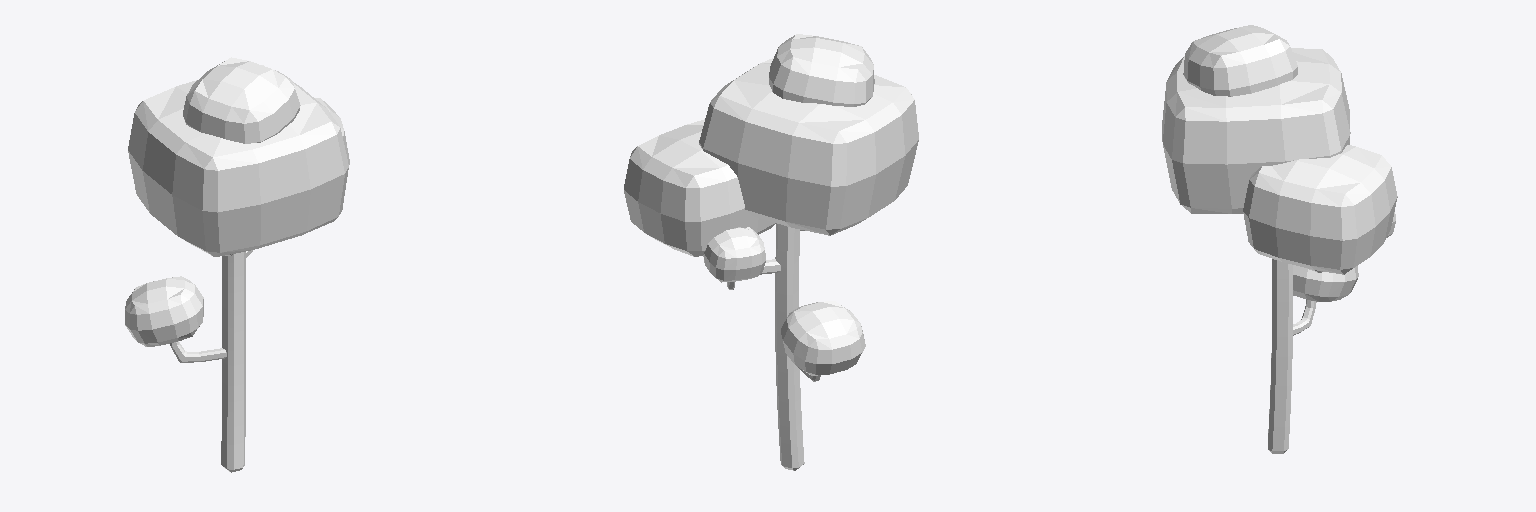
3 renders of one model, left to right at view 1: azimuth 30°, elevation 25°; view 2: azimuth 150°, elevation 25°; view 3: azimuth 270°, elevation 25°, orthographic.
Parts seen in each view (by area): view 1: birch_tree_SC_free; view 2: birch_tree_SC_free; view 3: birch_tree_SC_free.
Part boxes in pixels (left/top/right/bottom): birch_tree_SC_free: left=125, top=57, right=349, bottom=472; birch_tree_SC_free: left=624, top=34, right=918, bottom=470; birch_tree_SC_free: left=1162, top=25, right=1397, bottom=453.
Bounding box in the file's own units: 526 × 937 × 483.